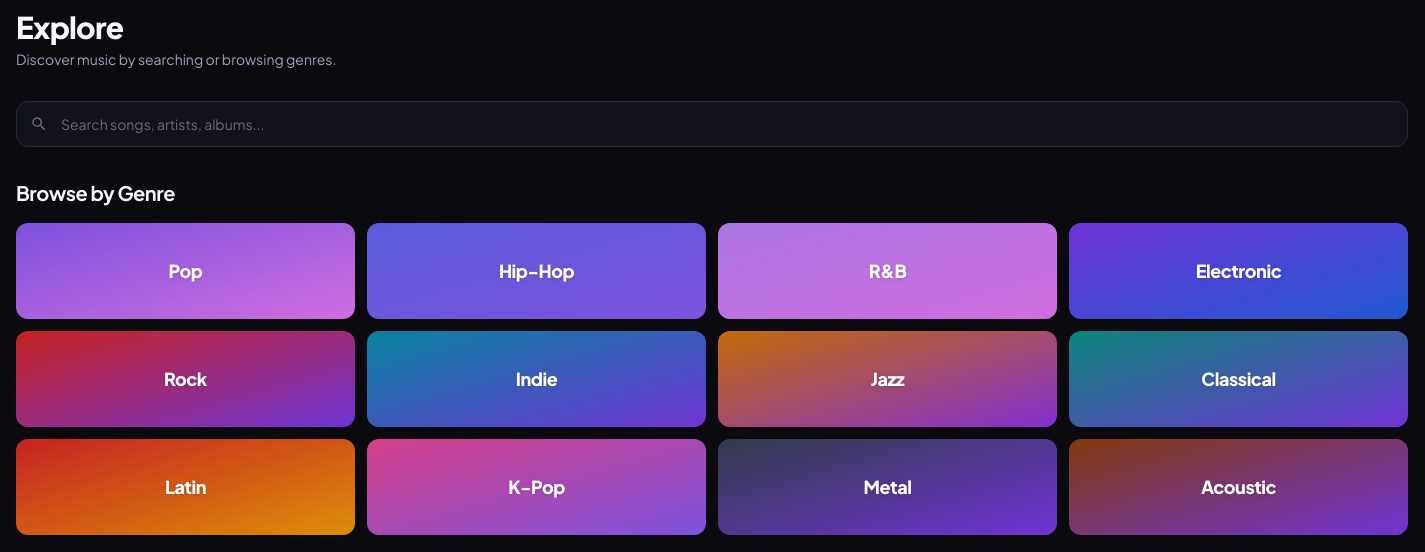
it: Explore page — debounced search › clicking a genre card populates the search input and hides the genre grid
Click the button "Jazz": (888, 379) [718,331,1057,427]
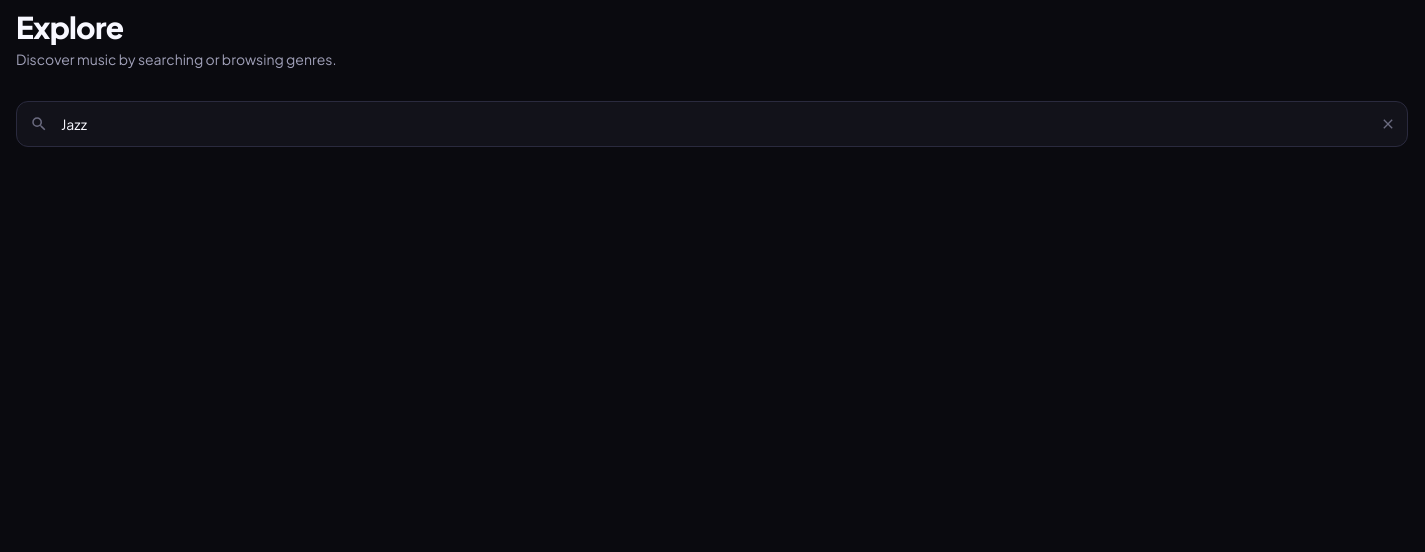
Expected: the heading "Browse by Genre" is gone
Expected: the field with placeholder "Search songs, artists, albums..." holds "Jazz", [16,101,1408,147]
